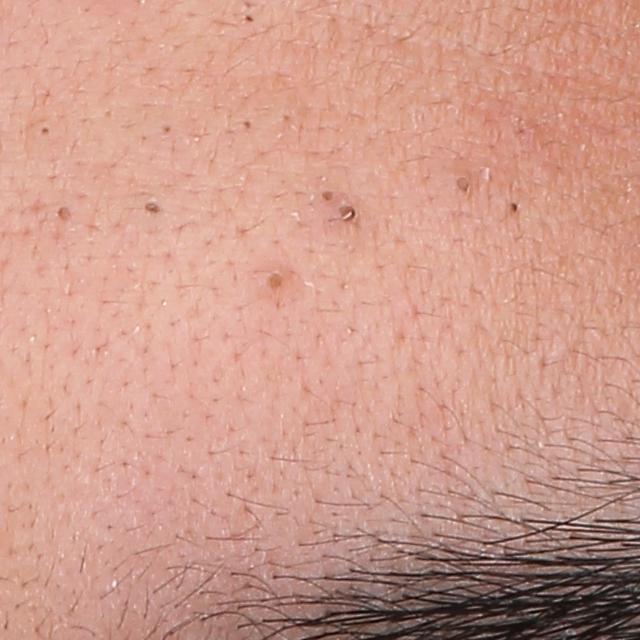comedo: (339, 203, 358, 224), (145, 200, 162, 220), (508, 198, 525, 218), (54, 202, 68, 221), (241, 117, 256, 132)
